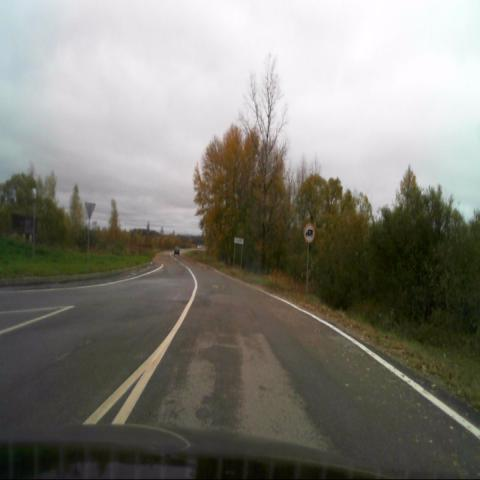3_4: (303, 222, 315, 244)
